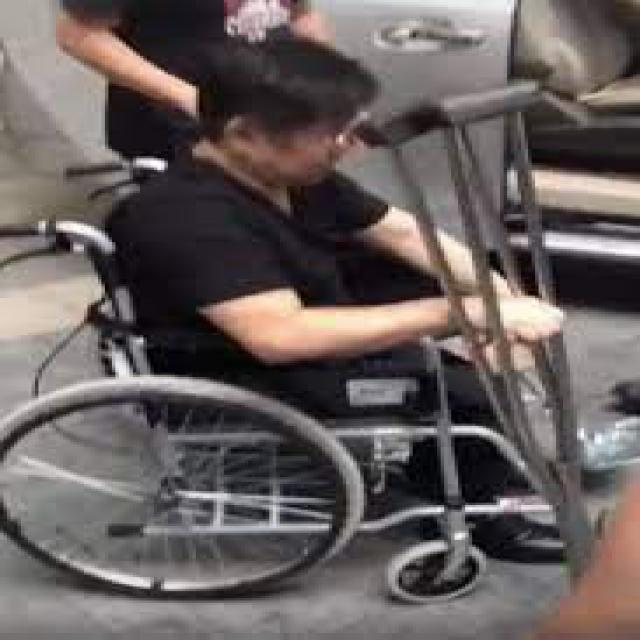wheelchairs: (7, 158, 595, 619)
